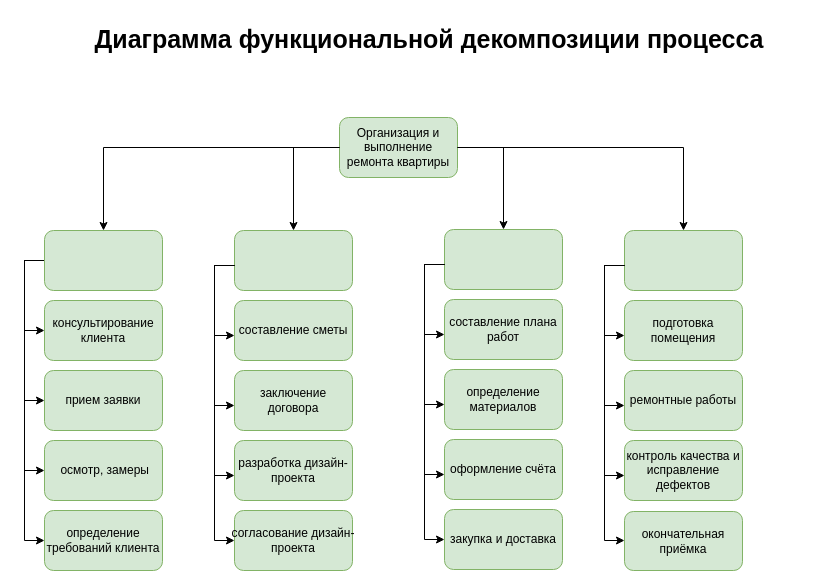
Some shapes in this 822 by 588 pixel diagram are drawn without their labels. Here are the shapes that lost their labels. From the top down, the box of each, then its label:
(44, 230, 162, 290): Приём заявки и обследование квартиры
(234, 230, 352, 290): Разработка и согласование проекта
(444, 228, 562, 290): Планирование работ и закупка материалов
(624, 230, 742, 290): Выполнение и приёмка ремонта
